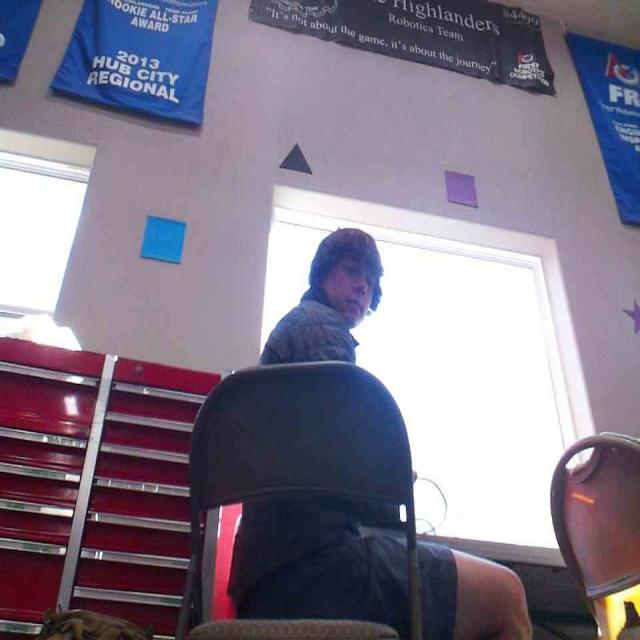square_blue: (137, 215, 187, 261)
square_purple: (442, 169, 477, 205)
triangle_black: (279, 142, 312, 174)
